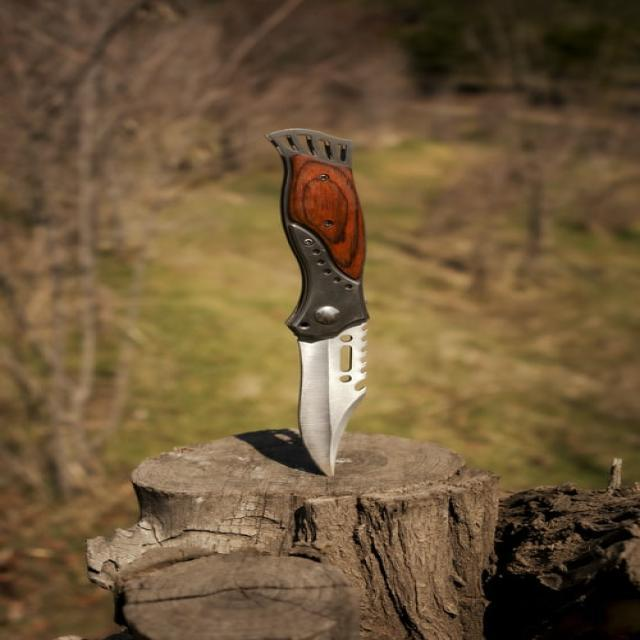faca: (240, 116, 418, 482)
